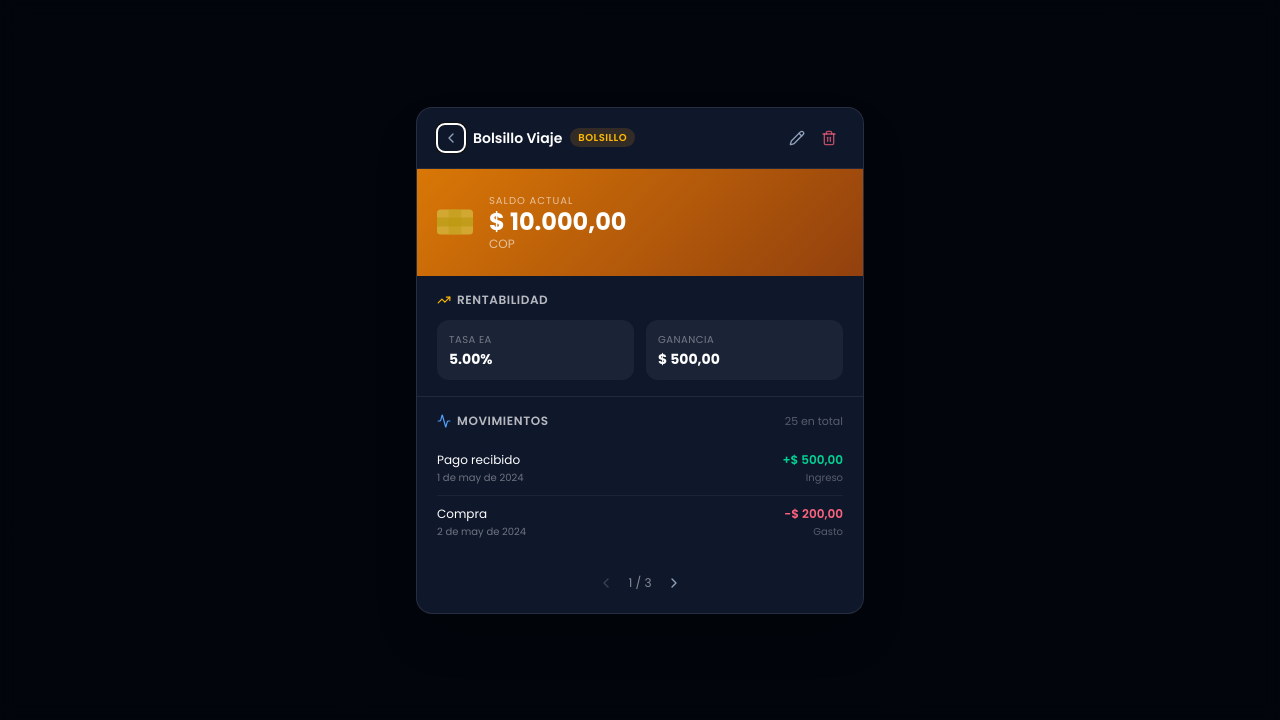
Test: PocketDetailModal › should render pagination controls and load the next page
The image size is (1280, 720).
Expected: the text "1 / 3" is shown, [628,574,652,590]
Note: Next button is the last button inside the pagination bar
Click the 5th button at (674, 582), box [660,568,688,596]
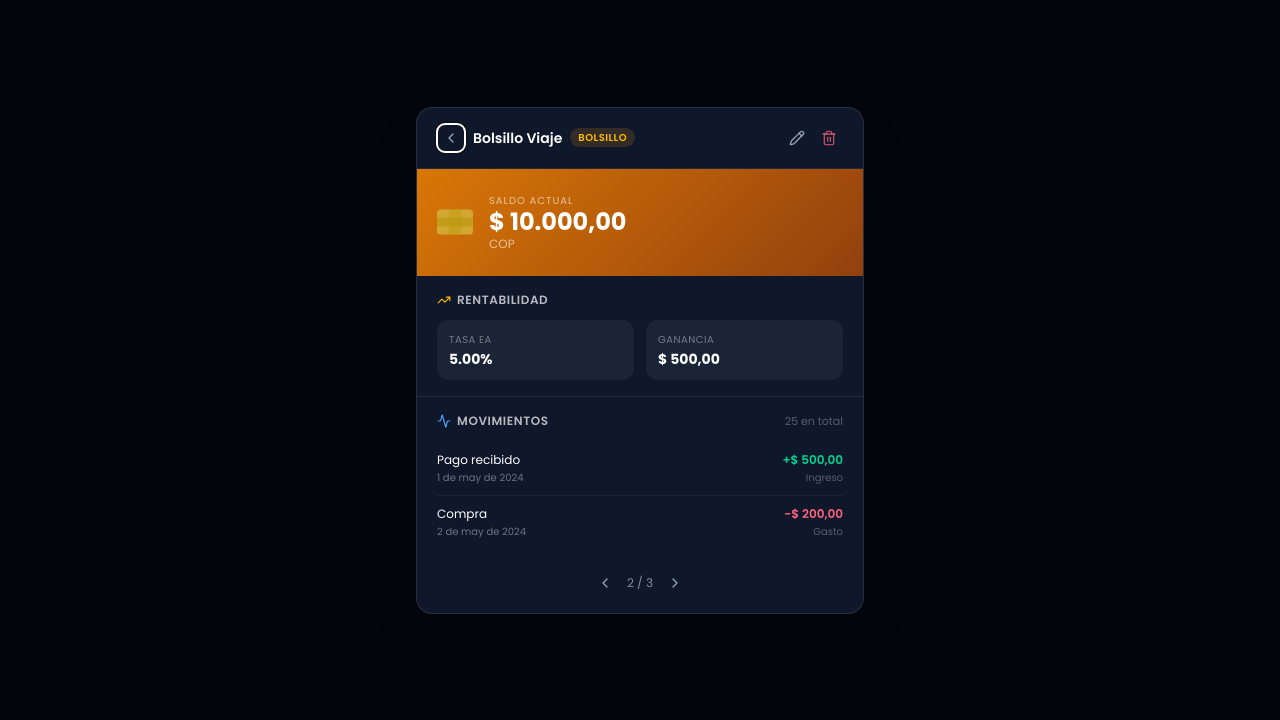
Now the text "2 / 3" is shown, box [627,574,653,590]
